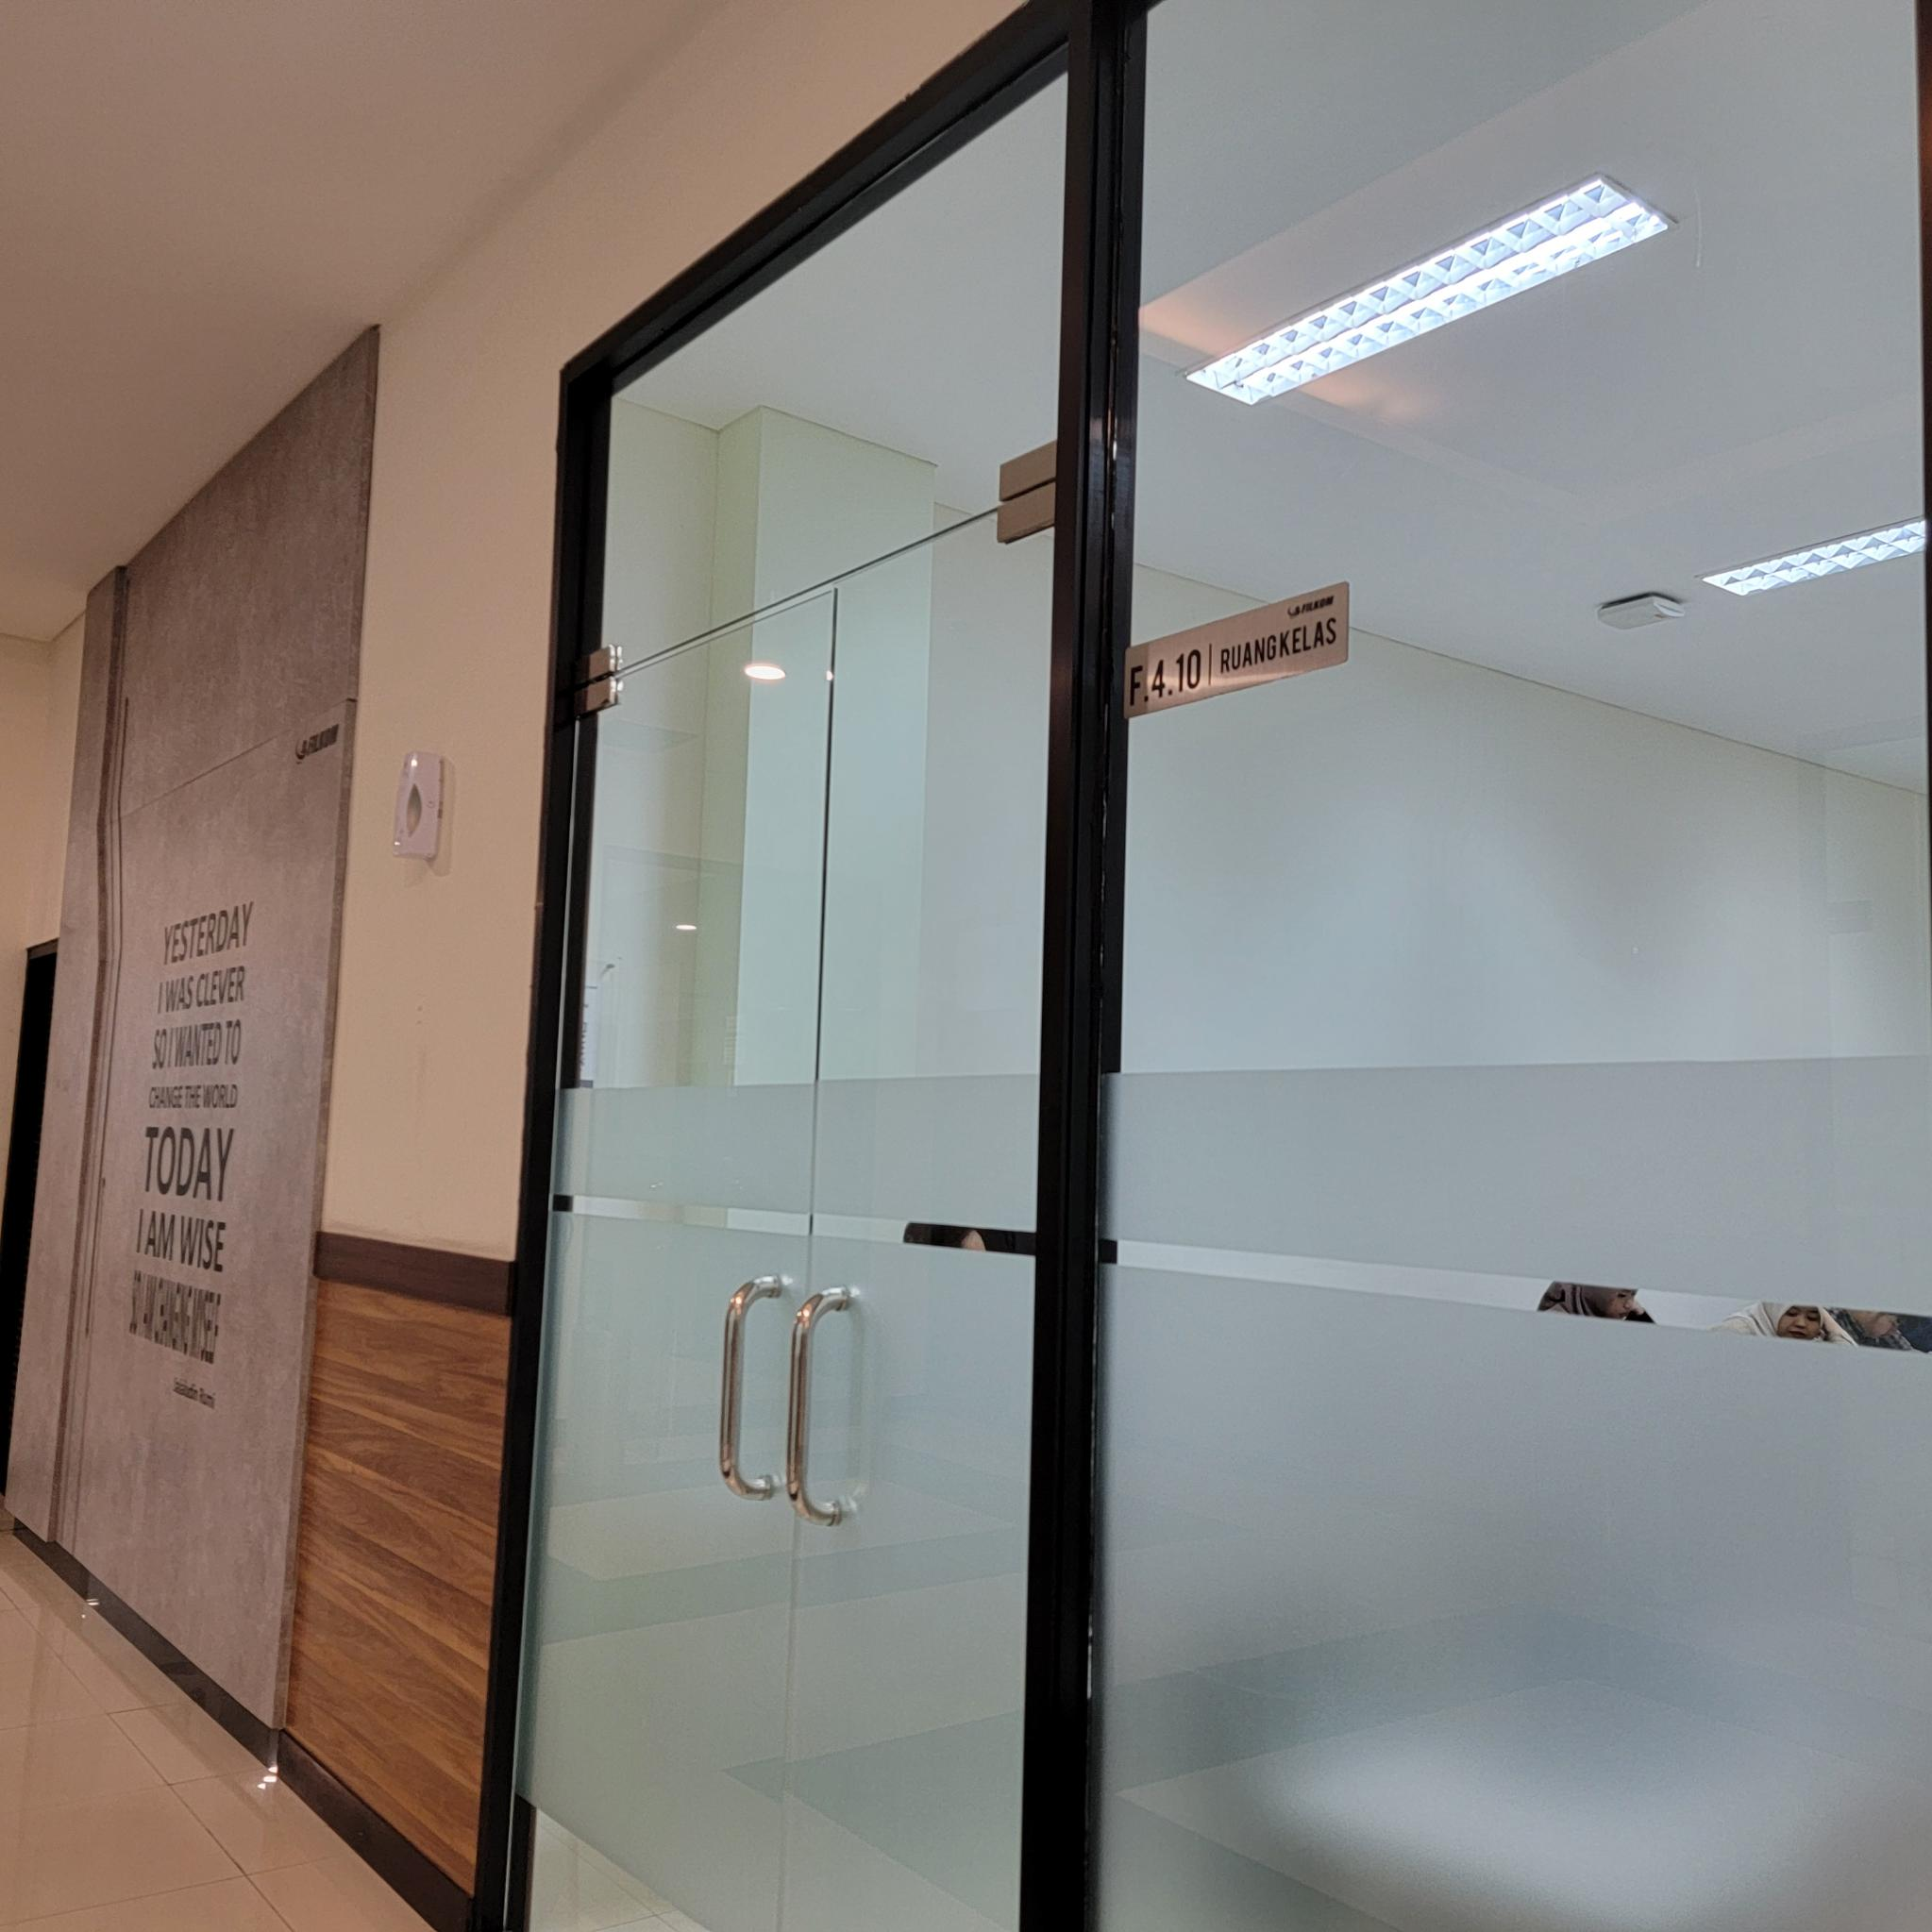plate: (1123, 582, 1350, 720)
